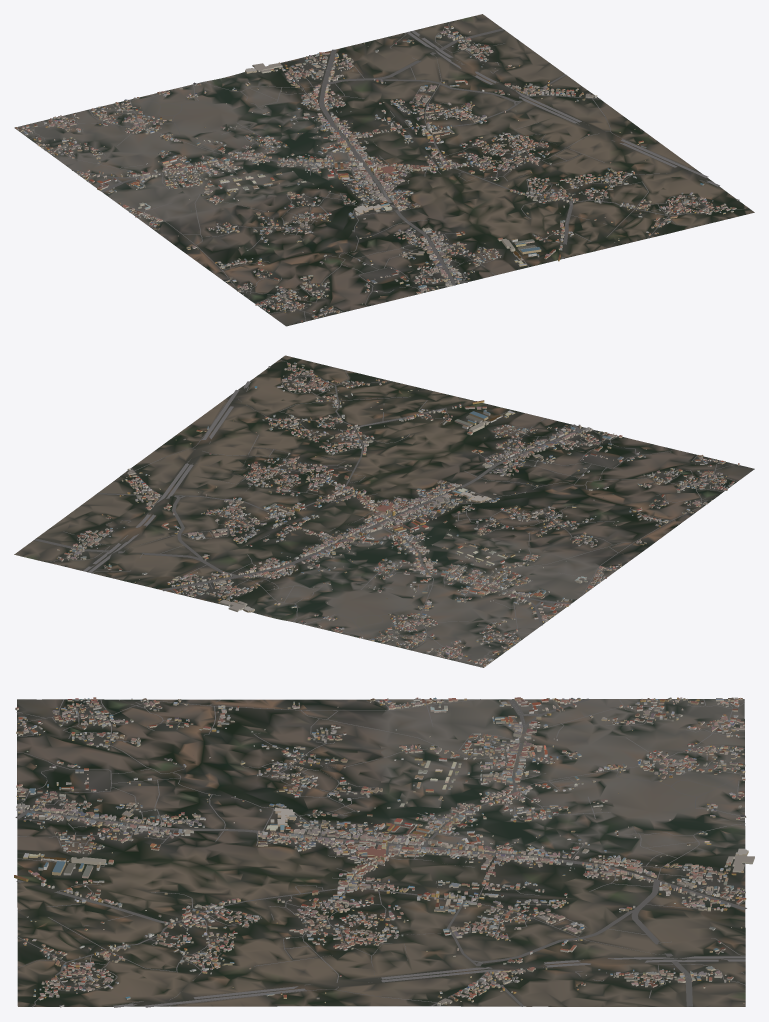
3 renders of one model, top to bottom at view 1: azimuth 30°, elevation 25°; view 2: azimuth 150°, elevation 25°; view 3: azimuth 270°, elevation 25°, orthographic. The views are drawn at different scales.
Visible parts, largest first — view 1: ground, buildings, roads; view 2: ground, buildings, roads; view 3: ground, buildings, roads.
Boxes of the visible parts, x1,y1,x2,y2 form: ground: [14, 14, 754, 326]; buildings: [15, 15, 739, 322]; roads: [19, 22, 749, 321]; ground: [14, 355, 754, 667]; buildings: [18, 362, 739, 666]; roads: [34, 359, 737, 666]; ground: [17, 699, 745, 1006]; buildings: [14, 697, 754, 1007]; roads: [15, 698, 746, 1007].
Bounding box in the file's own units: 2814 × 33.97 × 2854.
